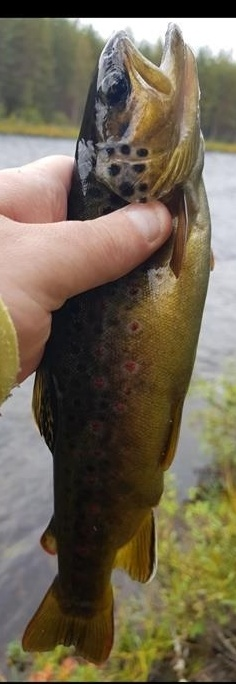Salmo trutta subsp. fario: (20, 20, 216, 664)
